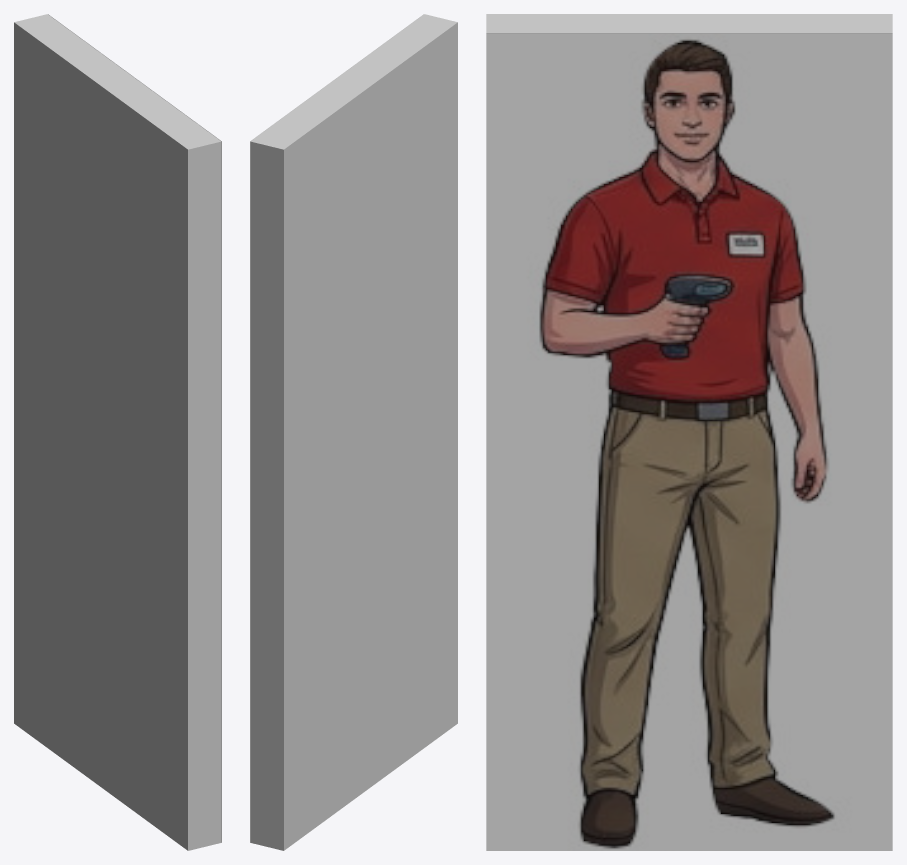
3 renders of one model, left to right at view 1: azimuth 30°, elevation 25°; view 2: azimuth 150°, elevation 25°; view 3: azimuth 270°, elevation 25°, orthographic. The views are drawn at different scales.
Parts seen in each view (by area): view 1: 立方体, 平面; view 2: 立方体, 平面; view 3: 平面, 立方体.
Boxes of the visible parts, <box> form: 立方体: <box>14,14,221,850</box>; 平面: <box>48,14,221,842</box>; 立方体: <box>250,14,457,850</box>; 平面: <box>250,14,423,842</box>; 平面: <box>486,33,892,850</box>; 立方体: <box>486,14,892,33</box>.
Size of the model in its own units: 0.0101 by 0.09 by 0.2.
1 material, 1 textured.
